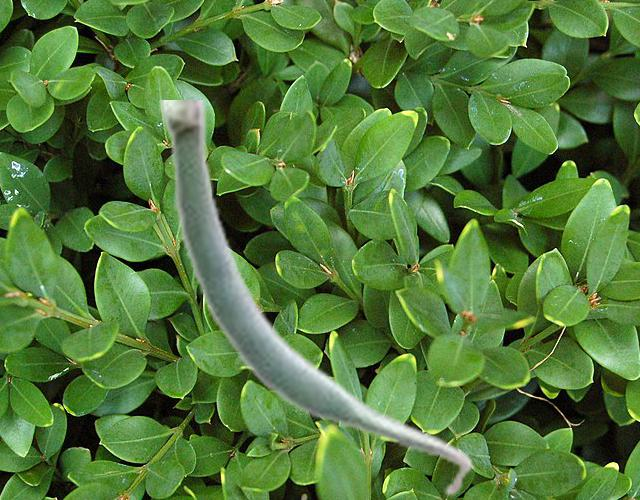french_bean: (159, 100, 473, 498)
